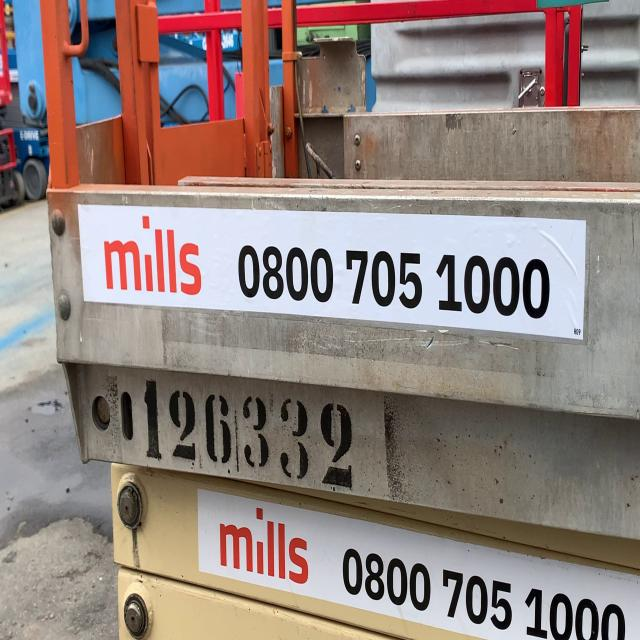Adesivo Longo: (75, 200, 589, 346)
